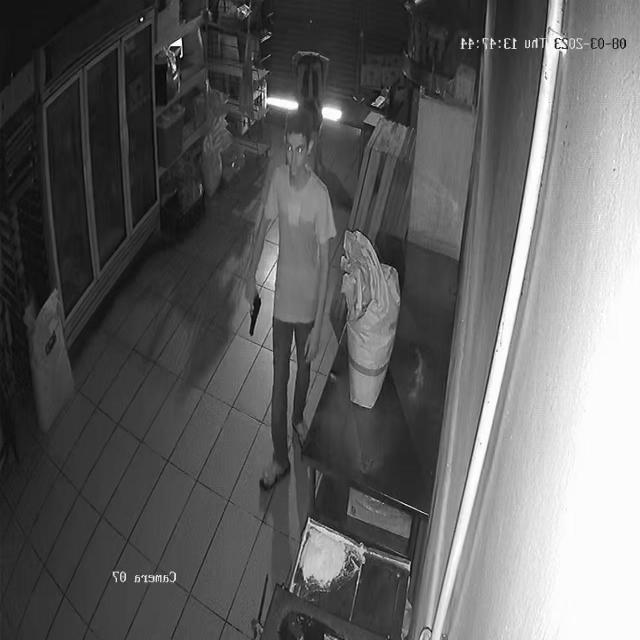Gun: (235, 284, 269, 338)
